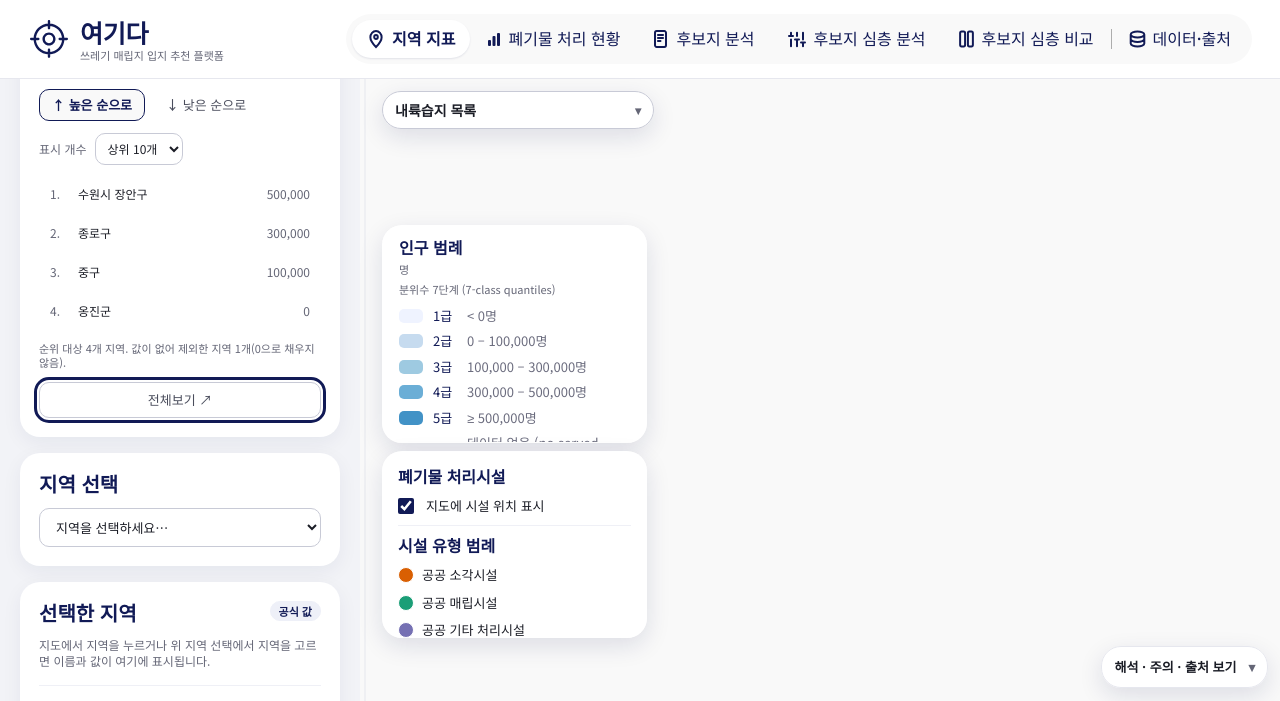
Scenario: 지역 순위 전체보기 › closes on Escape and gives focus back to the control that opened it
(page scrolled)
Click the button with test id "open-full-ranking" at (180, 400), box [39,382,321,418]
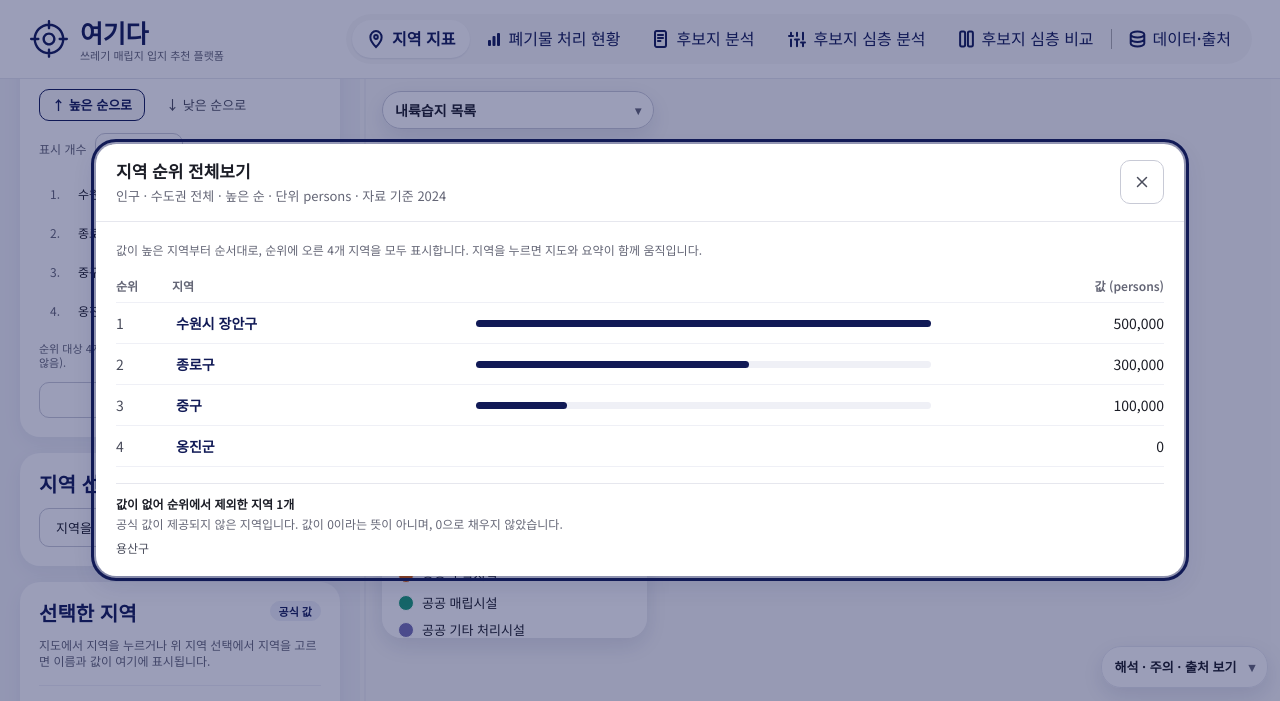
Expected: the dialog with test id "full-ranking-dialog" is shown, [96,144,1184,576]
Press Escape
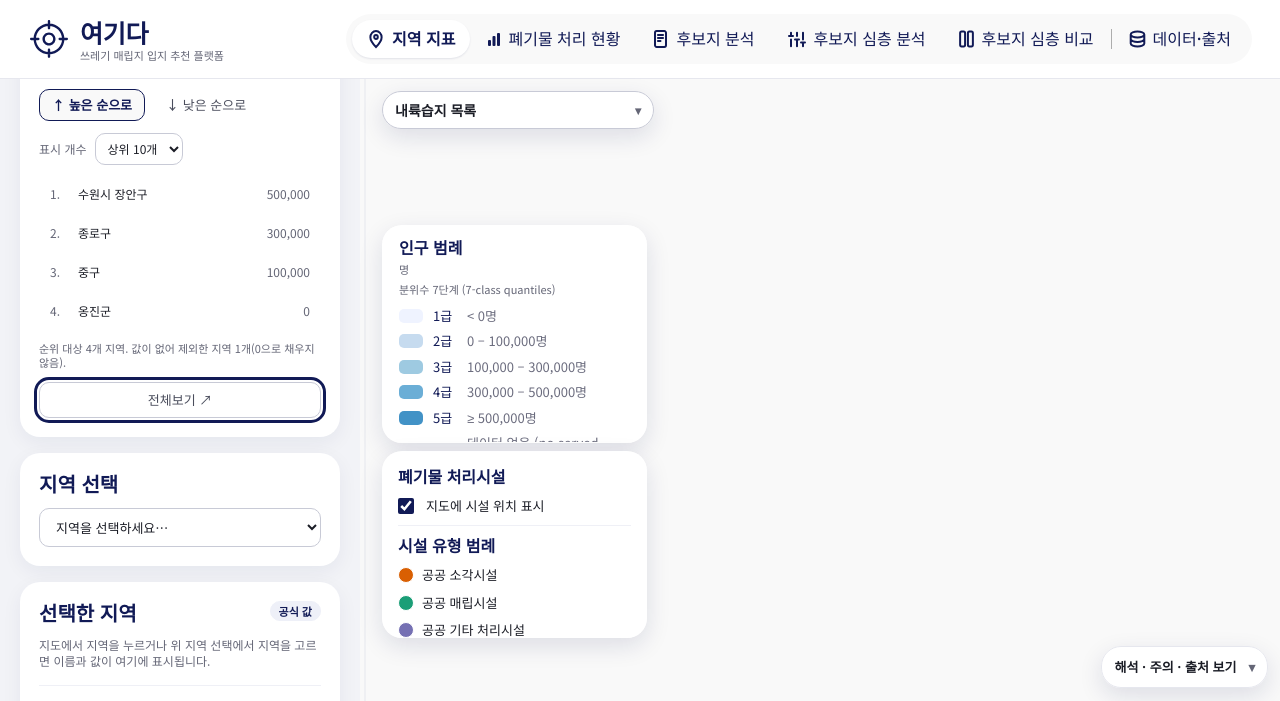
Expected: the dialog with test id "full-ranking-dialog" is gone
